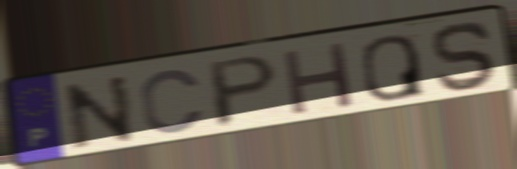C: (138, 67, 208, 136)
H: (279, 39, 357, 120)
N: (59, 72, 139, 153)
P: (206, 52, 281, 132)
Q: (359, 32, 429, 104)
S: (429, 18, 502, 94)
